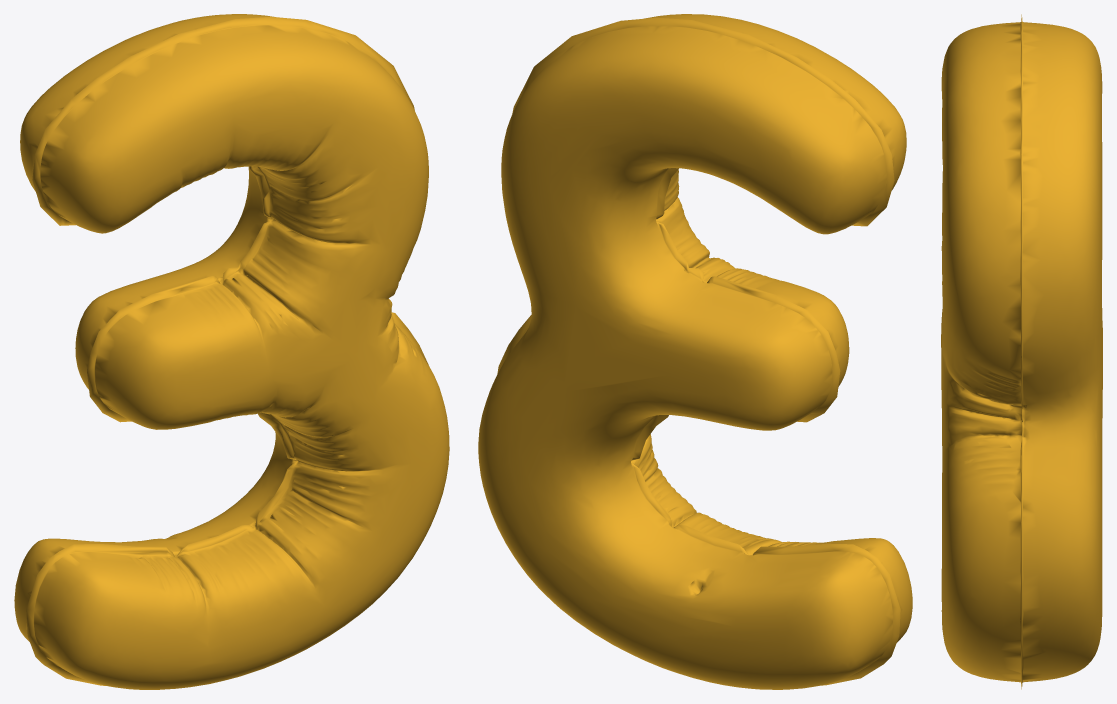
File: zahlen-gold-nr3-gruppe.glb
3 renders of one model, left to right at view 1: azimuth 30°, elevation 25°; view 2: azimuth 150°, elevation 25°; view 3: azimuth 270°, elevation 25°, orthographic. The views are drawn at different scales.
Parts seen in each view (by area): view 1: nr3; view 2: nr3; view 3: nr3.
Boxes of the visible parts, box(x1,y1,x2,y2) form: nr3: box(14, 14, 449, 689); nr3: box(478, 14, 912, 689); nr3: box(941, 14, 1102, 689).
Size of the model in its own units: 0.4215 by 0.634 by 0.1498.
